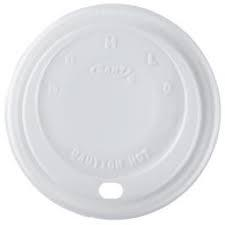Liquid: (8, 4, 225, 225)
